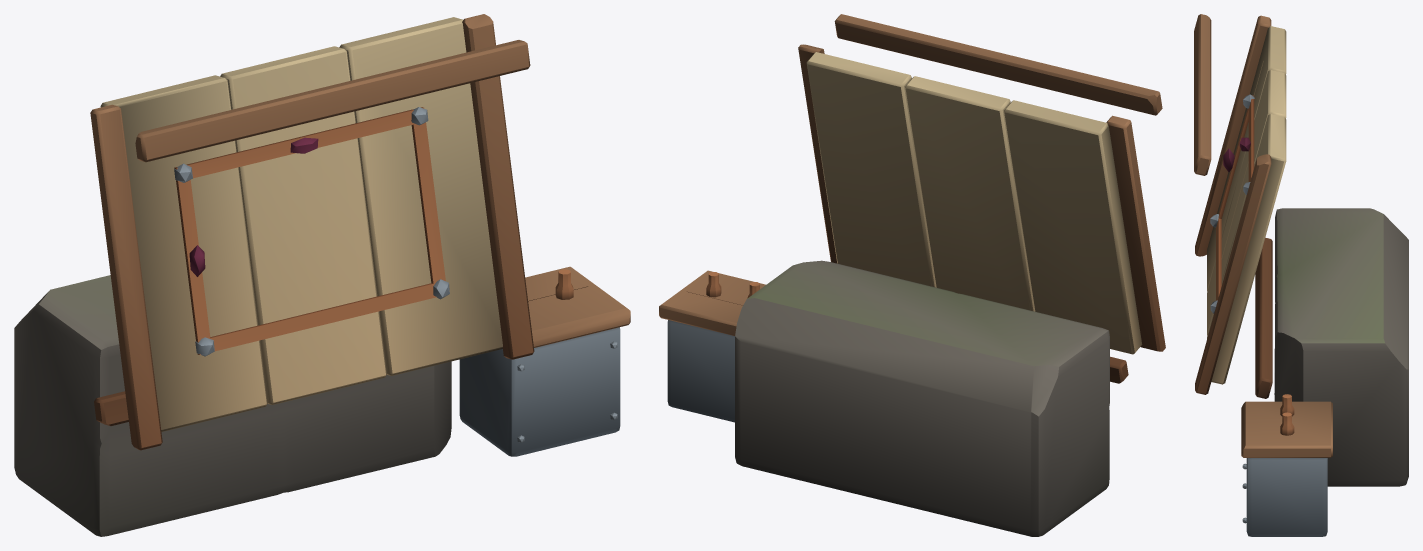
Rendered from ruins-board-v1.glb.
3 views of the same model, side by side, from view 1: azimuth 30°, elevation 25°; view 2: azimuth 150°, elevation 25°; view 3: azimuth 270°, elevation 25° (orthographic). The views are drawn at different scales.
Parts seen in each view (by area): view 1: 0_ruins_board; view 2: 0_ruins_board; view 3: 0_ruins_board.
Part boxes in pixels (box(x1,y1,x2,y2)): 0_ruins_board: box(14, 14, 630, 536); 0_ruins_board: box(659, 14, 1165, 536); 0_ruins_board: box(1194, 14, 1408, 536).
Size of the model in its own units: 1.69 by 1.37 by 0.7942.
